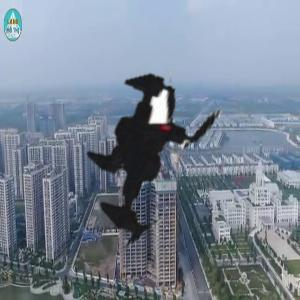drone: (26, 31, 286, 291)
